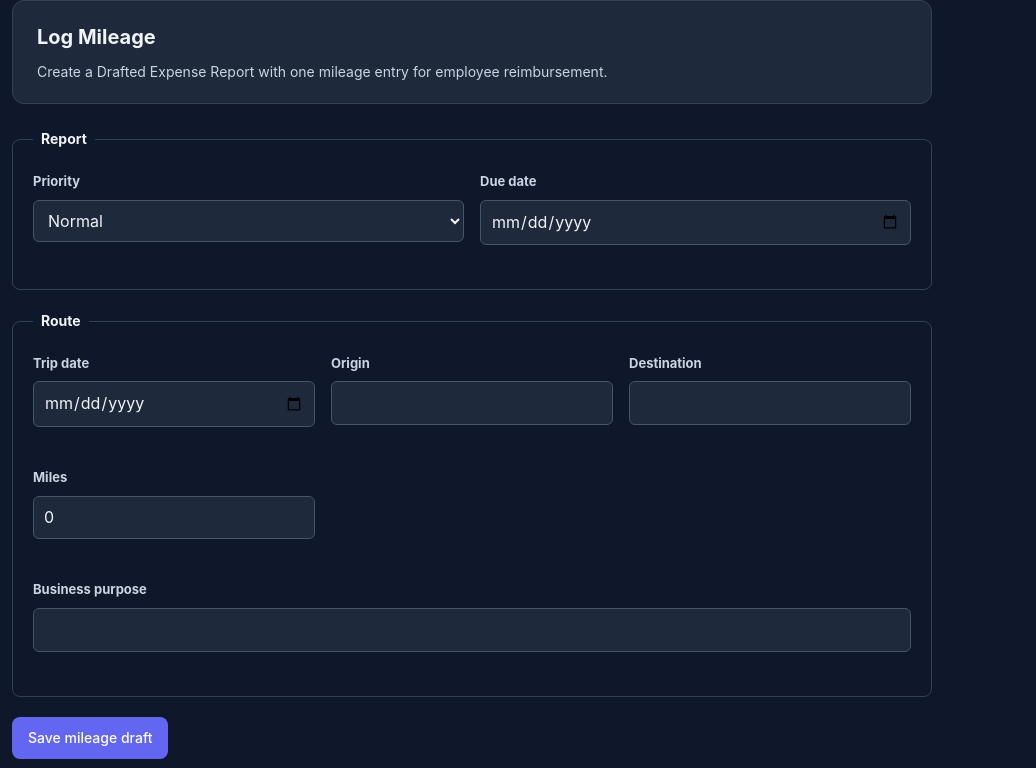
it: Expense write forms › submits a valid mileage draft through the shared contract and invalidates the queue key
Type "2026-08-03" into the date field labelled "Due date" at coordinates (696, 222), box x1=480 y1=200 x2=911 y2=245
Type "2026-08-01" into the date field labelled "Trip date" at coordinates (174, 404), box x1=33 y1=381 x2=315 y2=427
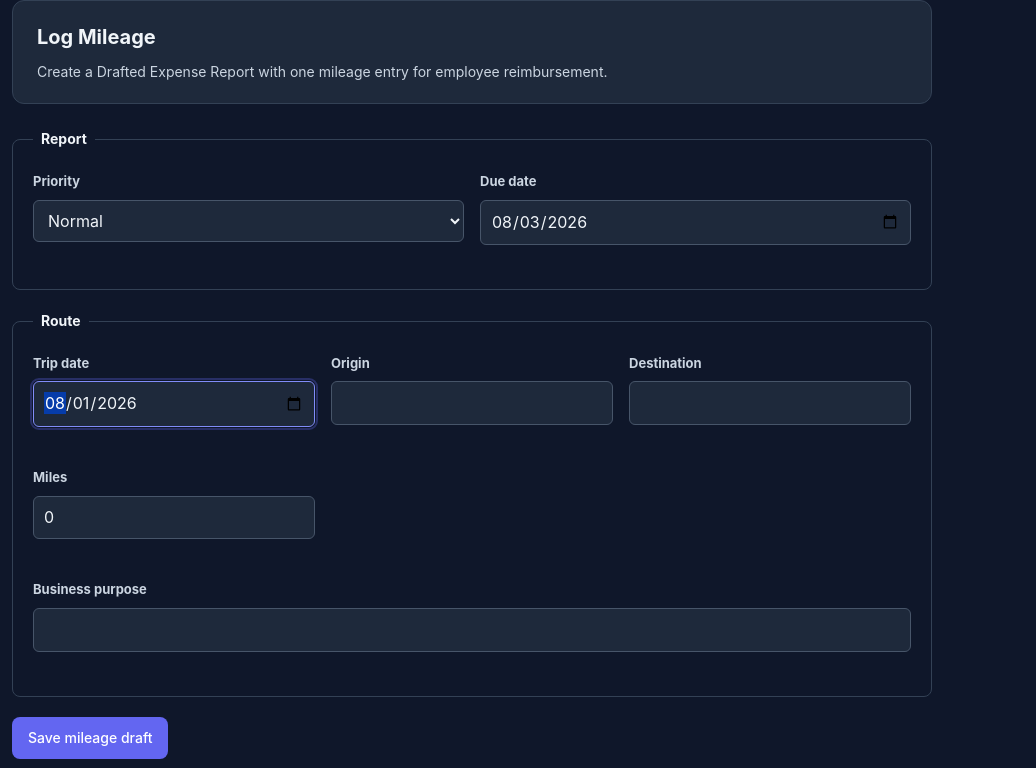
Type "Synthetic Origin Office" into the field labelled "Origin" at coordinates (472, 403), box x1=331 y1=381 x2=613 y2=425
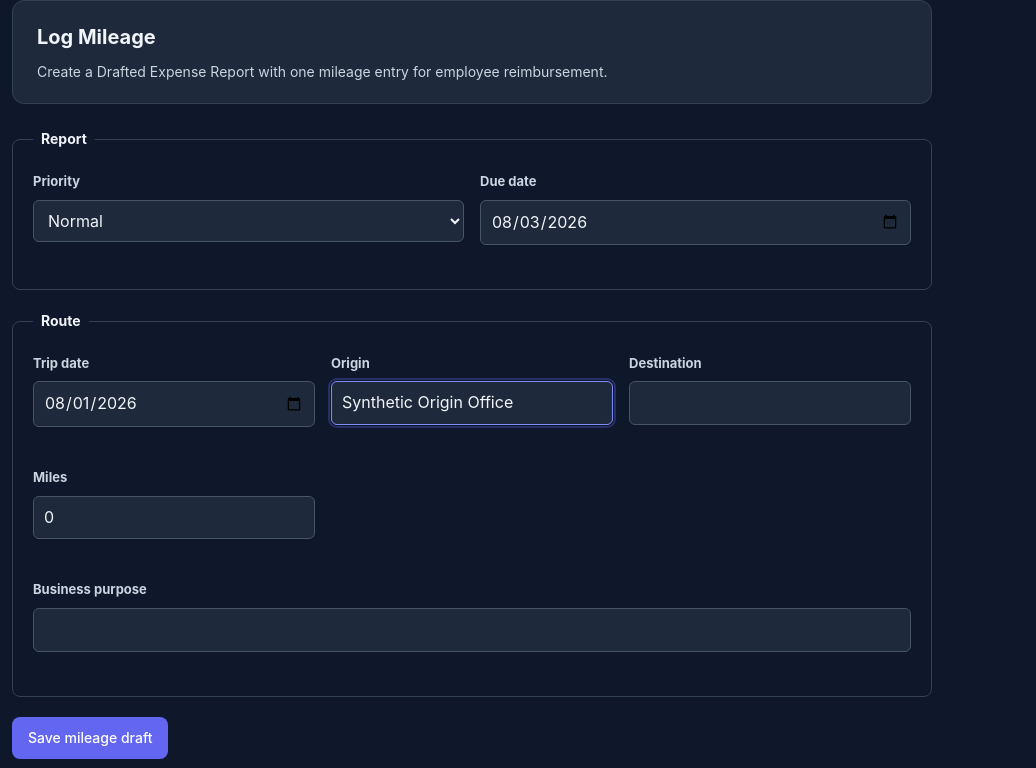
Type "Synthetic Destination Office" into the field labelled "Destination" at coordinates (770, 403), box x1=629 y1=381 x2=911 y2=425
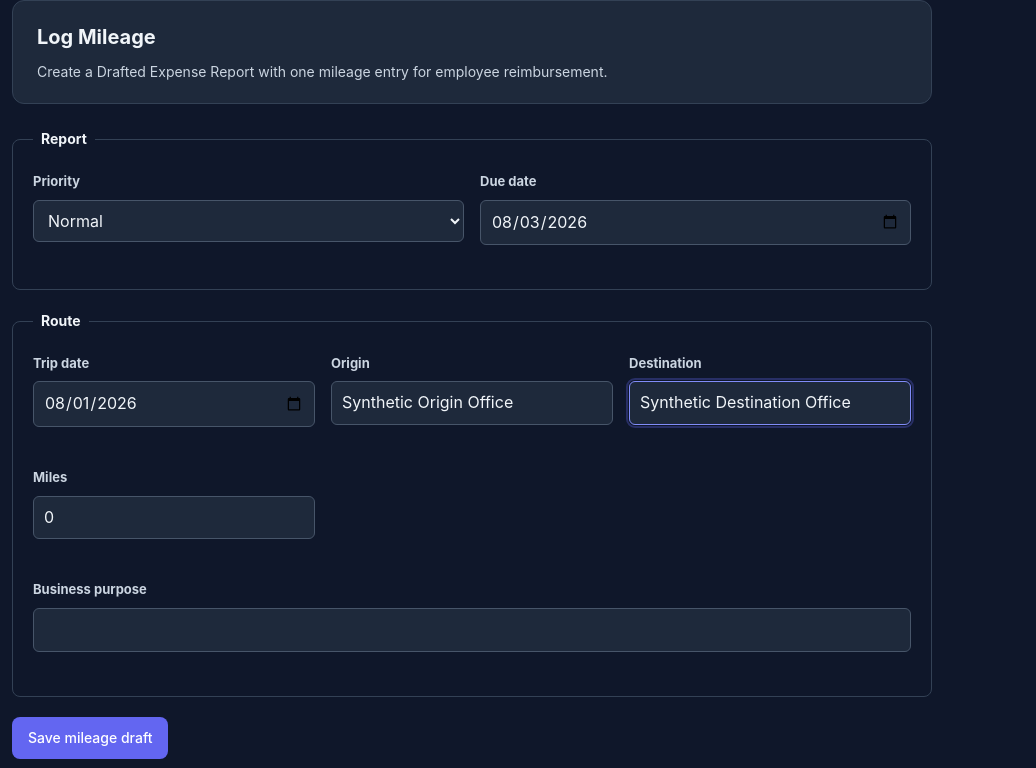
Replace the text in the number field labelled "Miles" with "18.25" at coordinates (174, 518), box x1=33 y1=496 x2=315 y2=539
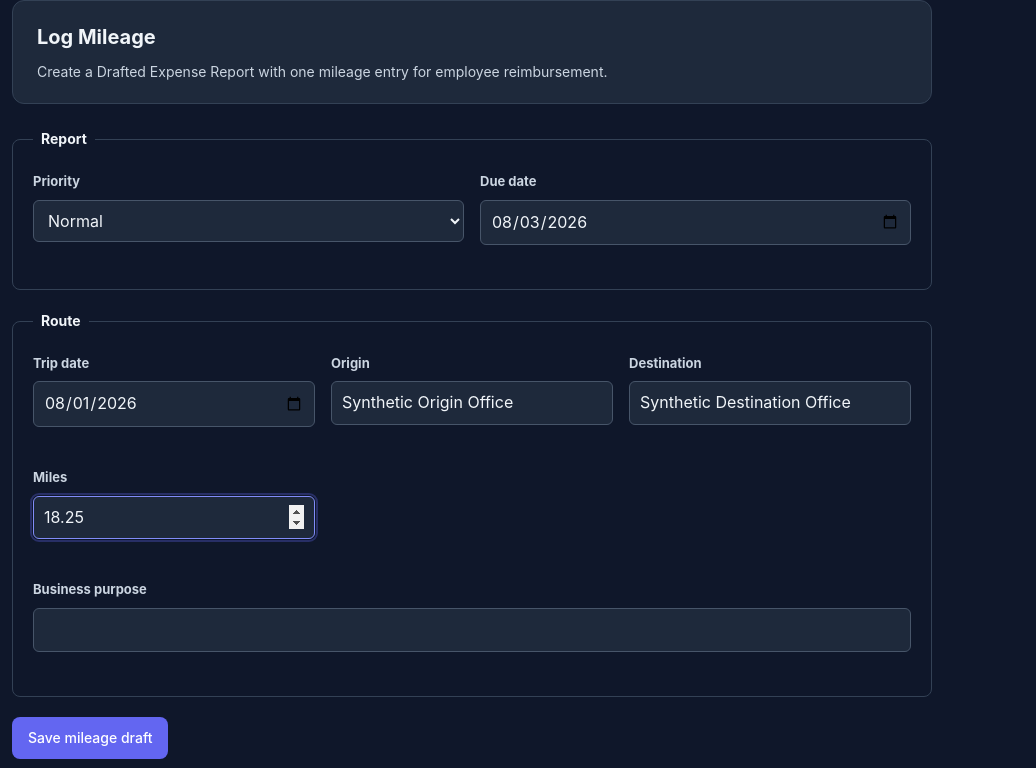
Type "Synthetic client support visit." into the field labelled "Business purpose" at coordinates (472, 630), box x1=33 y1=608 x2=911 y2=652
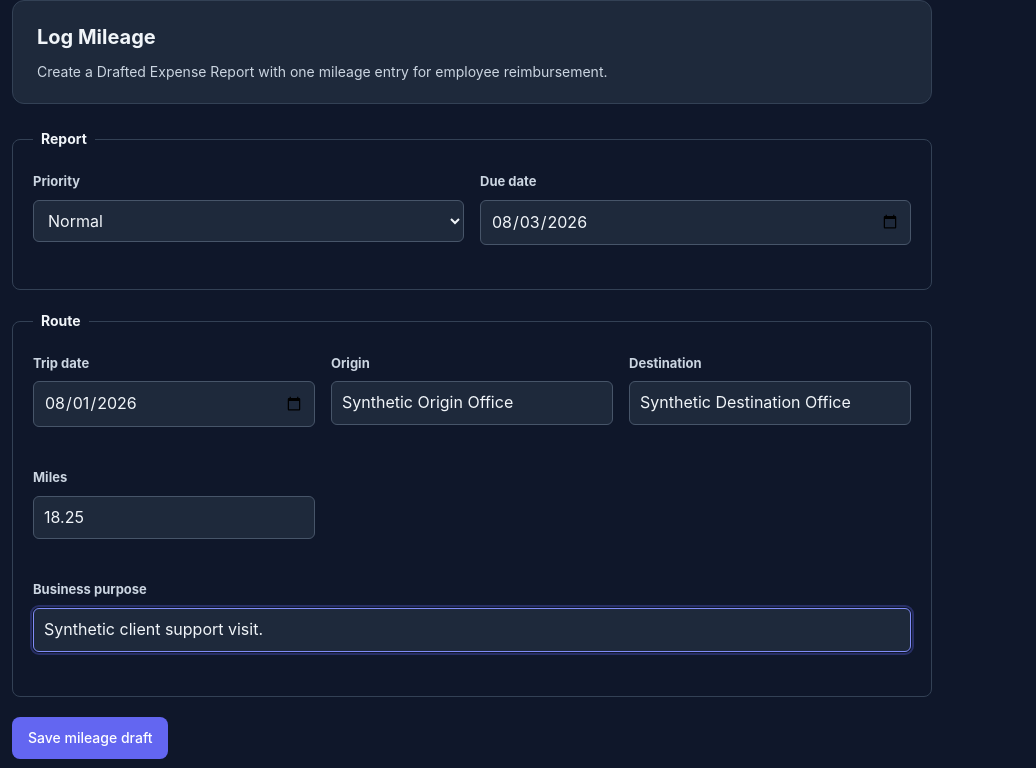
Click the button "Save mileage draft" at coordinates (90, 738), box x1=12 y1=717 x2=168 y2=759
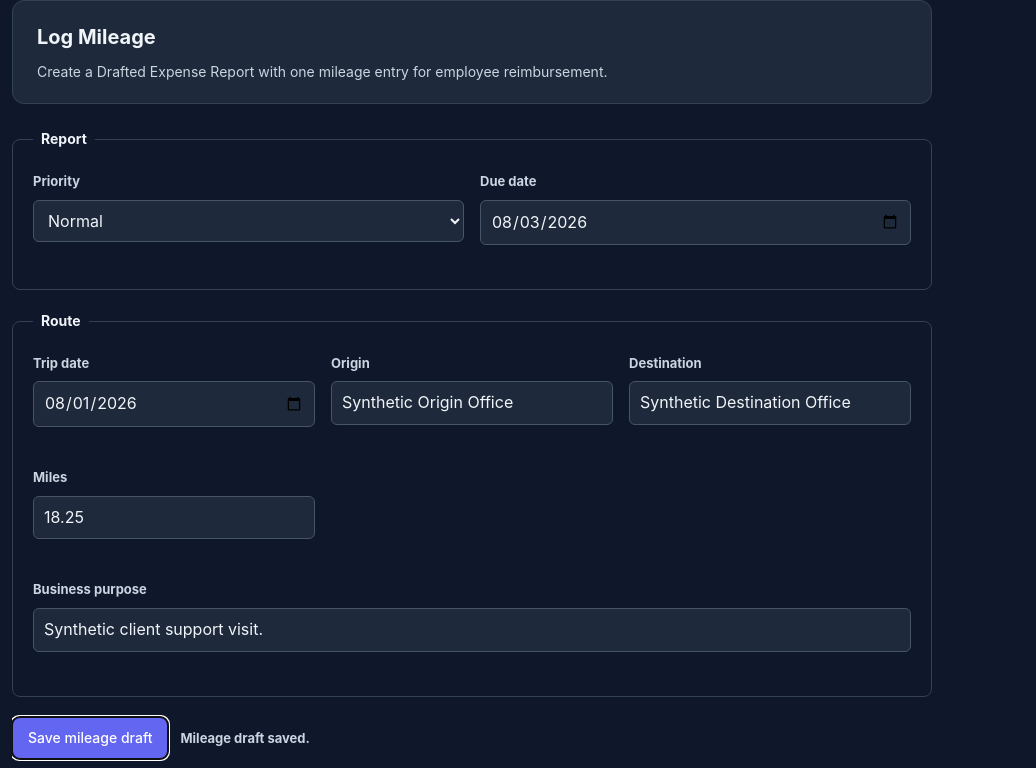
Check: the text "Mileage draft saved." is shown, box x1=180 y1=728 x2=310 y2=748
